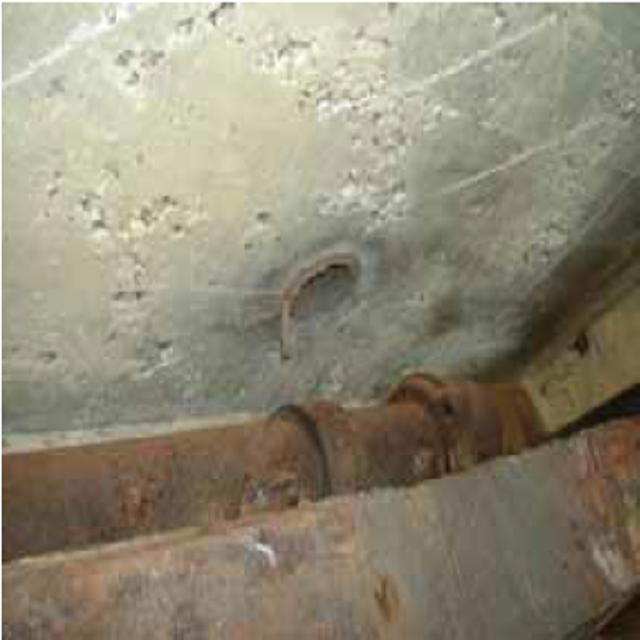corrosion: (17, 362, 564, 598)
